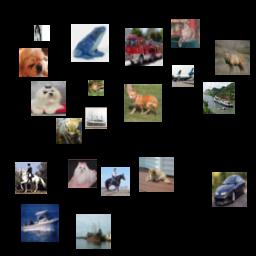airplane: (172, 65, 194, 87)
automobile: (212, 172, 247, 207)
cat: (171, 19, 200, 48)
deer: (215, 40, 250, 75)
dog: (124, 84, 162, 122), (139, 157, 174, 192), (31, 81, 66, 116), (19, 48, 48, 77), (68, 159, 97, 188), (34, 25, 50, 41)
frog: (71, 24, 109, 62), (56, 118, 82, 144), (88, 80, 104, 96)
ship: (21, 204, 59, 242), (76, 214, 111, 249), (203, 82, 235, 114), (85, 107, 107, 129)
truck: (125, 28, 163, 66)
